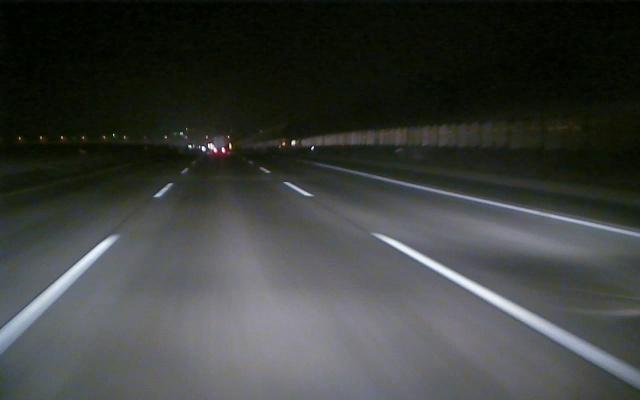lane: (289, 181, 639, 388), (4, 184, 170, 352), (360, 172, 640, 239)
